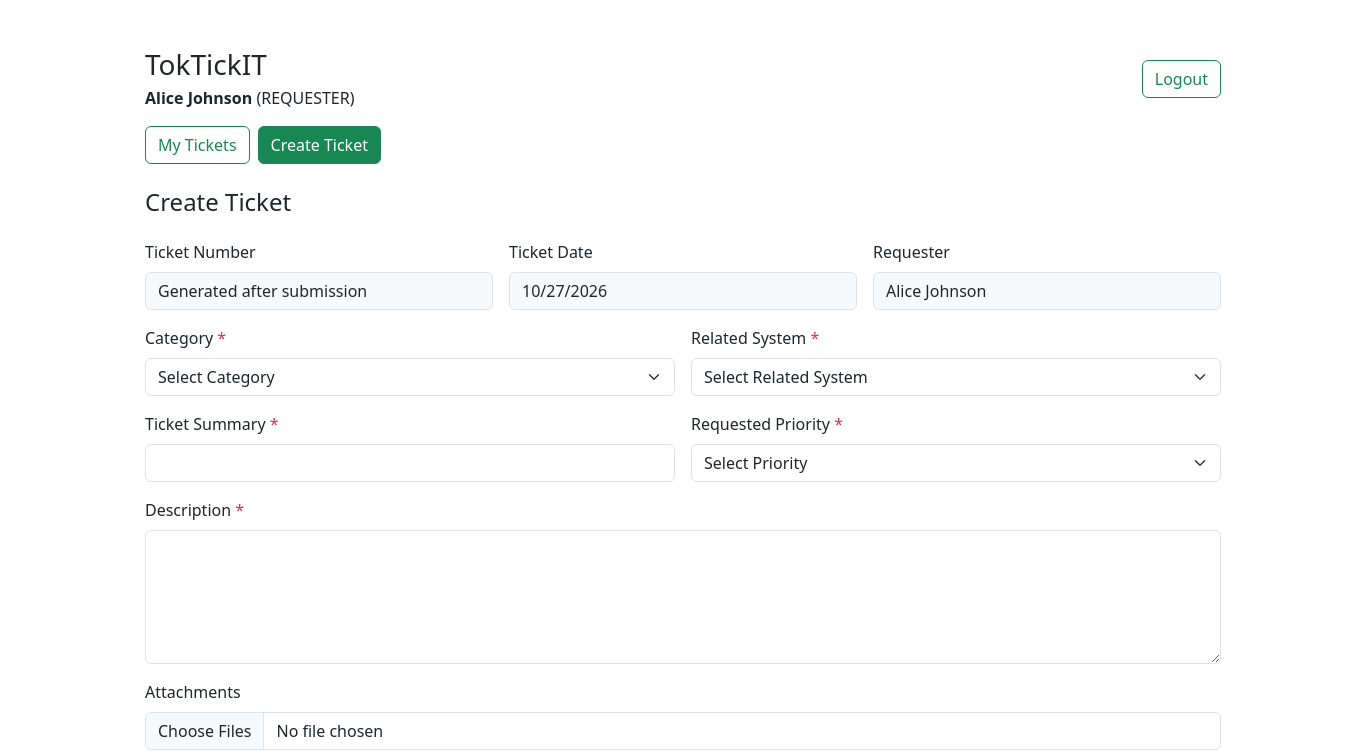
it: My Tickets › shows a safe failure state when My Tickets cannot load
Expected: the heading "Create Ticket" is shown, [145,185,291,218]
Click the button "My Tickets".
click(197, 145)  # box [145,126,250,164]
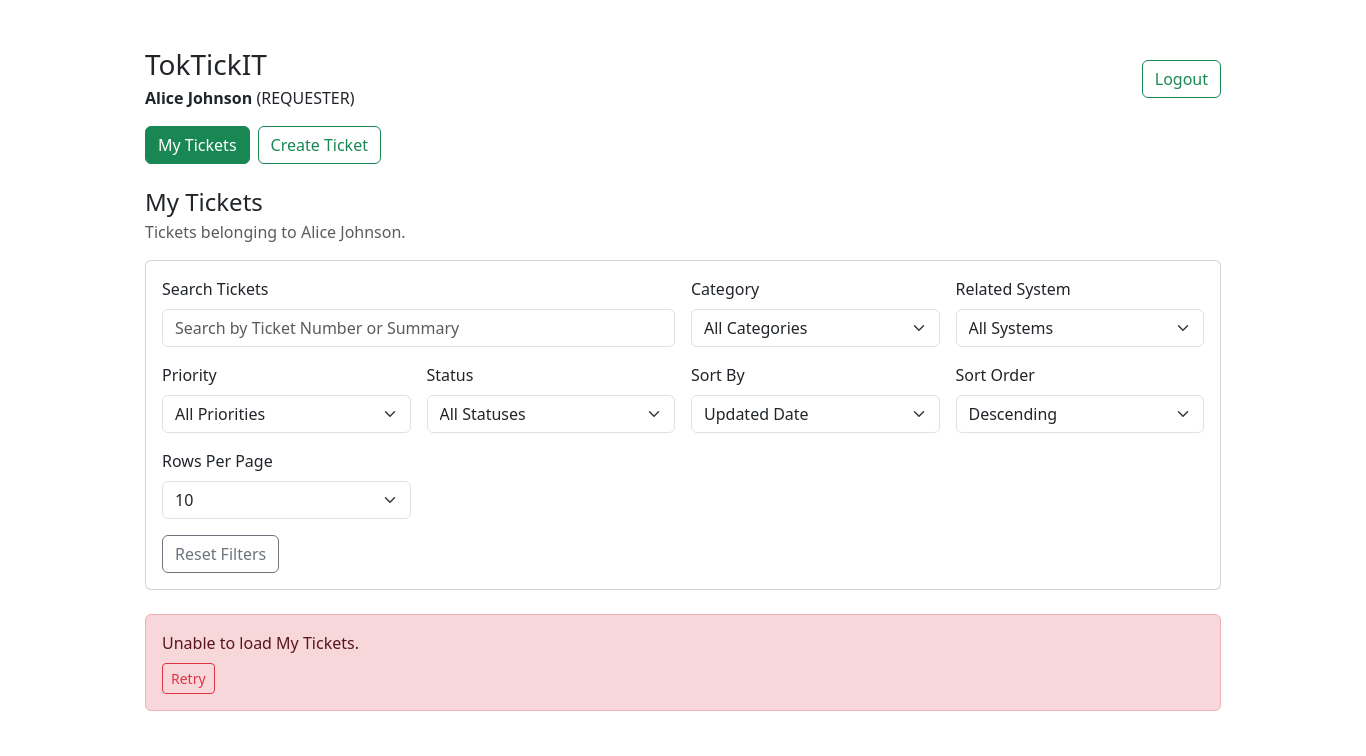
Result: the text "Unable to load My Tickets." is shown at [162,632,359,654]
Result: the button "Retry" is shown at [162,663,215,694]
